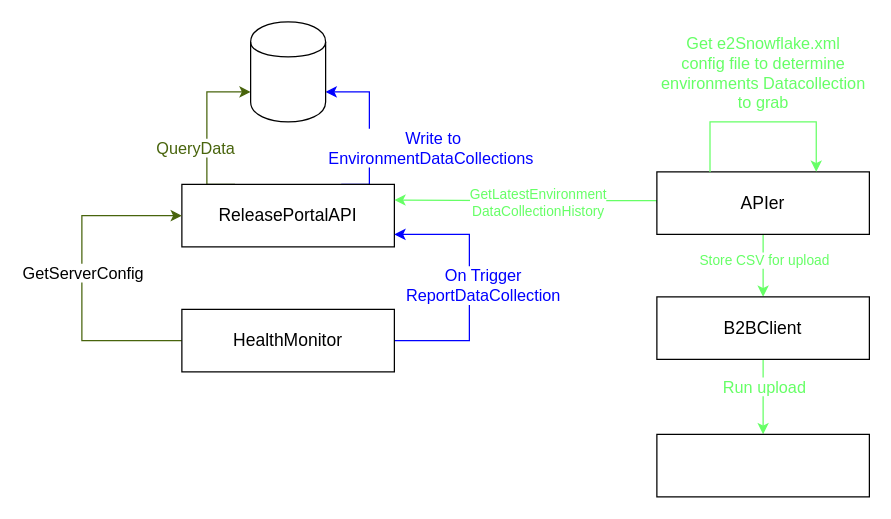
This 891x519 diagram has some shape labels left out. Each missing label, with the box of its shape:
Release Portal DB: (249, 21, 326, 122)
Snowflake: (656, 433, 869, 497)
